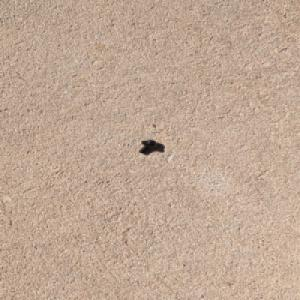BoltWasher: (137, 139, 158, 153)
